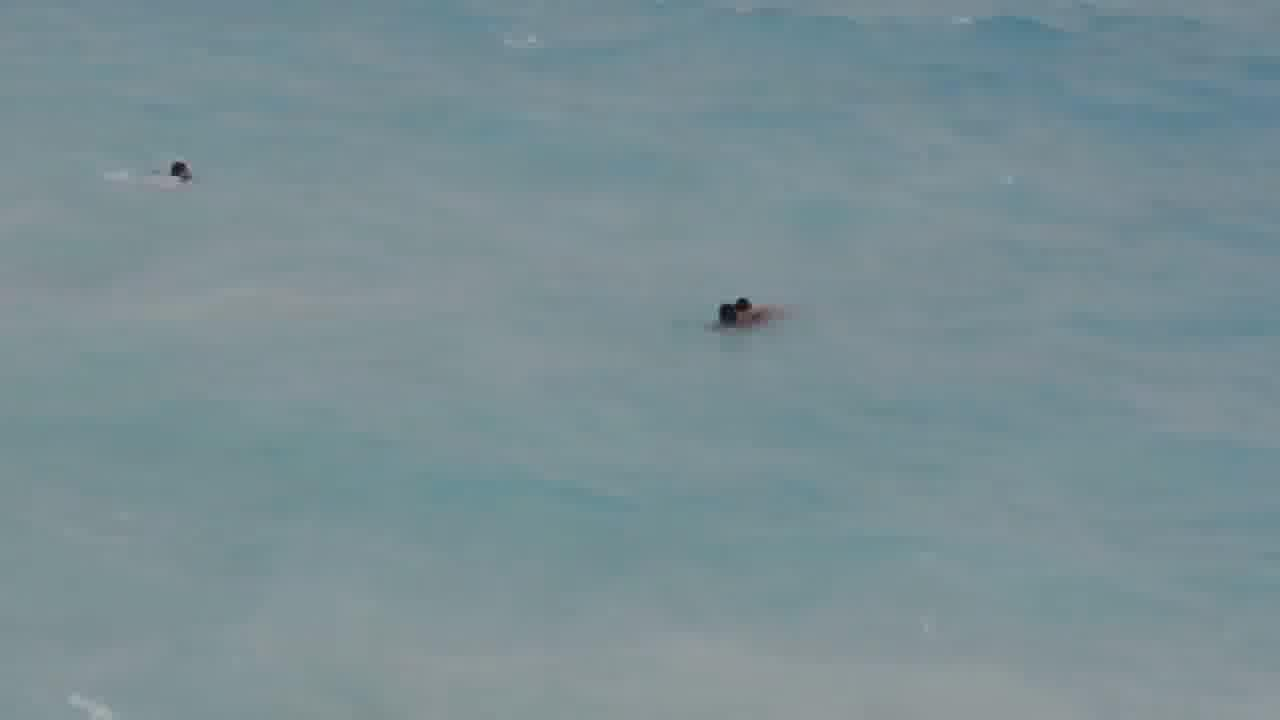swimmer: (687, 279, 776, 344), (154, 147, 214, 196), (725, 285, 788, 320)
